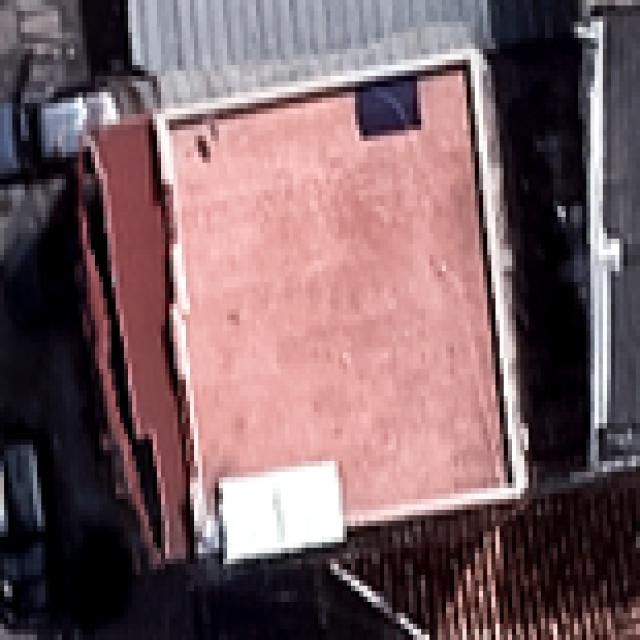Batiment: (171, 69, 505, 541)
